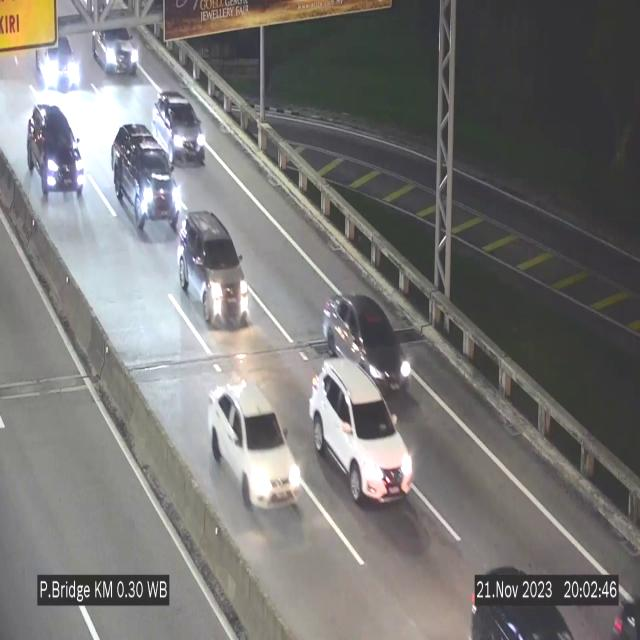Car: (309, 358, 415, 502), (208, 384, 304, 512), (320, 292, 424, 402), (463, 554, 588, 640), (180, 210, 250, 329), (109, 126, 185, 228), (22, 103, 86, 202), (156, 92, 206, 163), (33, 34, 80, 94), (89, 30, 140, 80)
